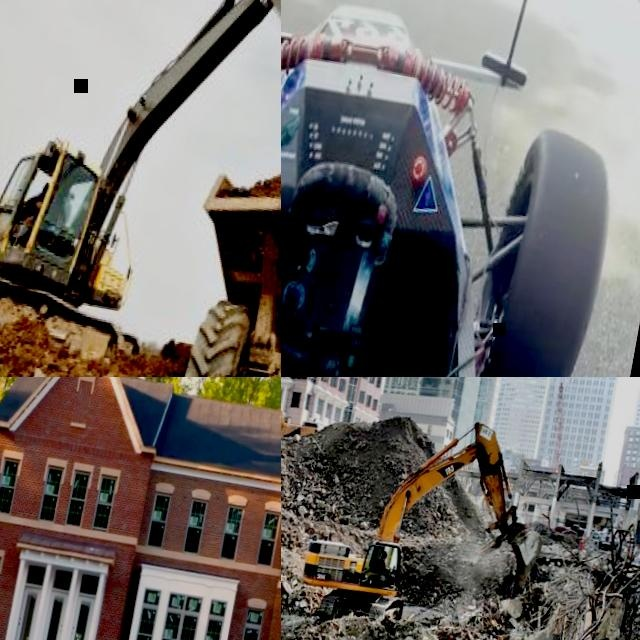NO-Hardhat: (383, 550, 388, 556)
Person: (379, 549, 393, 571)
machinery: (0, 0, 281, 377), (292, 393, 560, 640), (163, 119, 281, 377), (281, 377, 327, 476), (601, 526, 614, 546)
vehicle: (281, 0, 640, 377)
